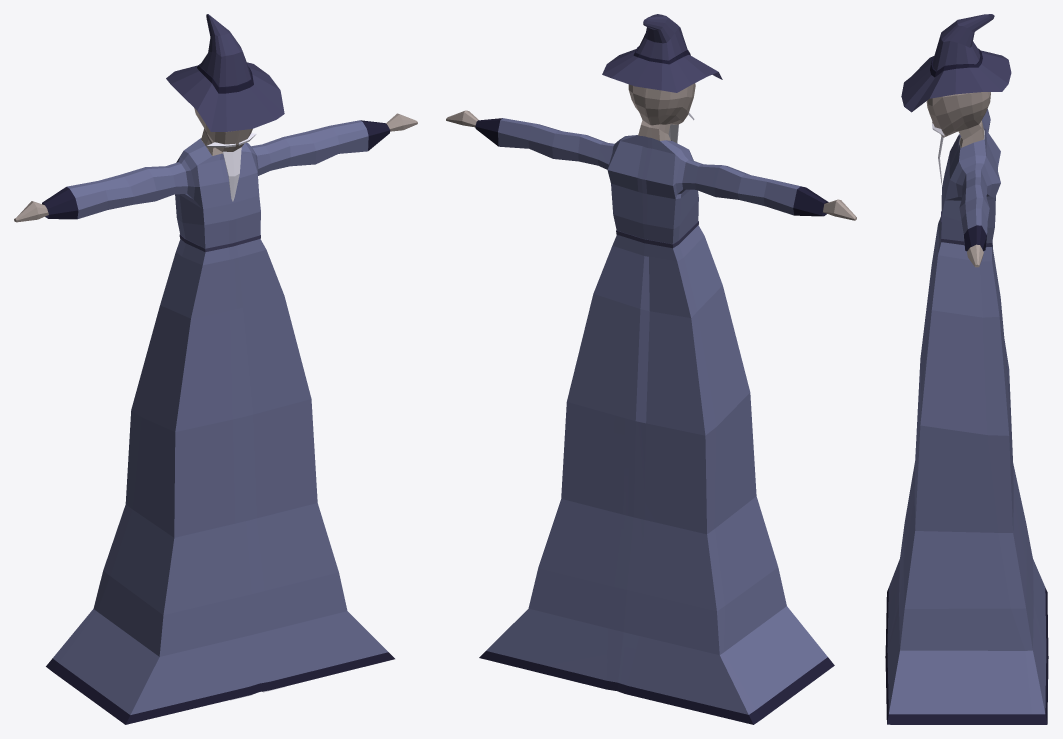
Rendered from MODEL_Mage.fbx.
3 views of the same model, side by side, from view 1: azimuth 30°, elevation 25°; view 2: azimuth 150°, elevation 25°; view 3: azimuth 270°, elevation 25° (orthographic).
Visible parts, largest first — view 1: mageBody.001, mageBody.002, mageBody; view 2: mageBody.001, mageBody.002, mageBody; view 3: mageBody.001, mageBody.002, mageBody.
Boxes of the visible parts, x1,y1,x2,y2 form: mageBody.001: (42, 120, 394, 724); mageBody.002: (166, 14, 284, 131); mageBody: (14, 108, 417, 700); mageBody.001: (475, 118, 834, 724); mageBody.002: (602, 14, 722, 92); mageBody: (446, 83, 856, 220); mageBody.001: (885, 109, 1048, 724); mageBody.002: (901, 14, 1011, 112); mageBody: (926, 92, 990, 267).
Bounding box in the file's own units: 1691 × 2590 × 591.
1 material, 1 textured.
